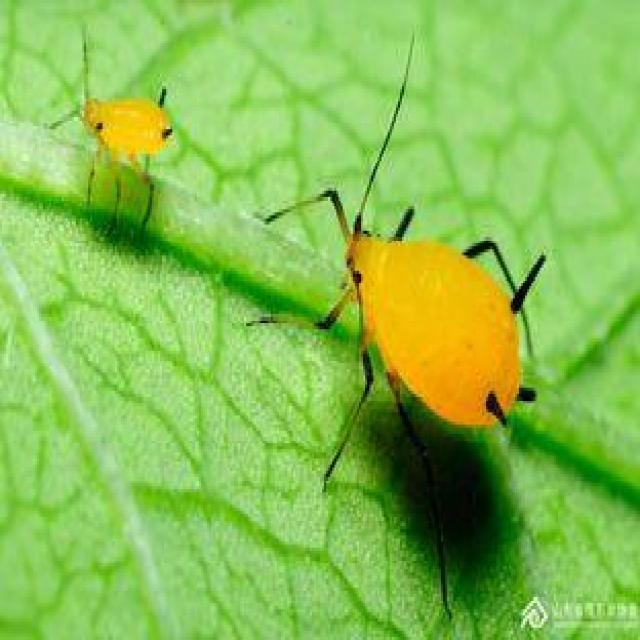Aphids: (266, 94, 569, 577), (40, 38, 198, 272)
